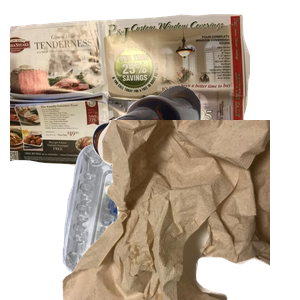glass: (90, 83, 300, 235)
paper: (10, 11, 250, 180)
plastic: (60, 141, 263, 300)
trash: (60, 120, 300, 300)
